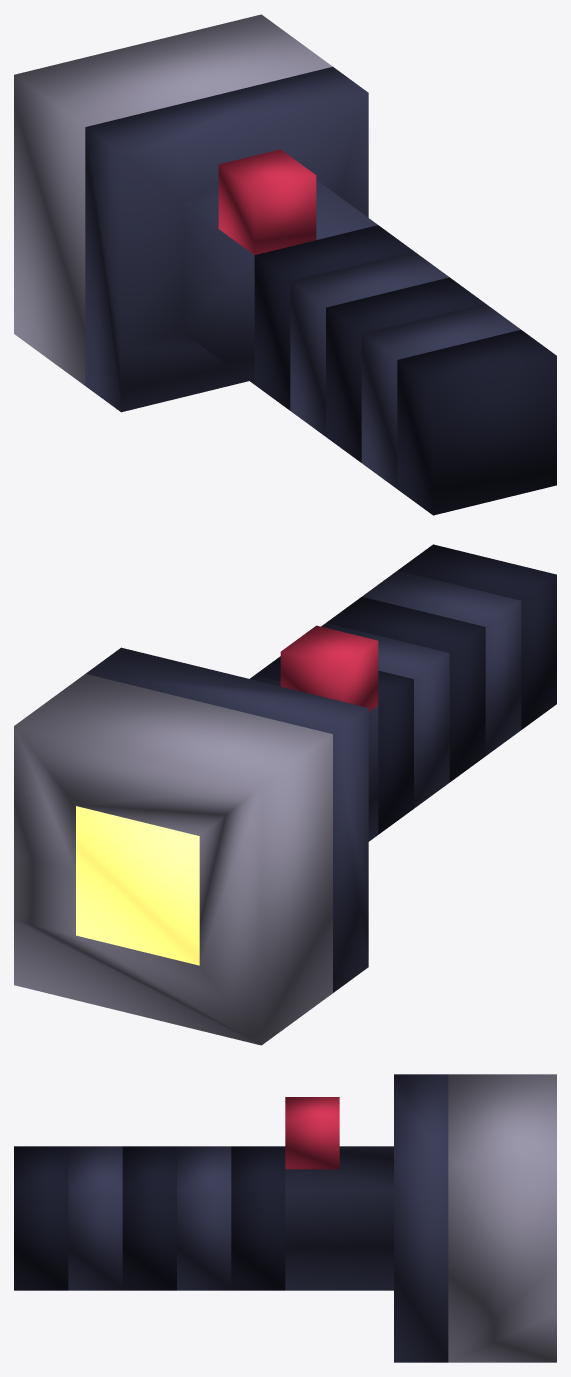
File: flashlight.lod1.glb
3 views of the same model, one above another, from view 1: azimuth 30°, elevation 25°; view 2: azimuth 150°, elevation 25°; view 3: azimuth 270°, elevation 25° (orthographic). The views are drawn at different scales.
Visible parts, largest first — view 1: flashlight.body; view 2: flashlight.body; view 3: flashlight.body.
Boxes of the visible parts, x1,y1,x2,y2 form: flashlight.body: [14, 14, 556, 515]; flashlight.body: [14, 544, 556, 1045]; flashlight.body: [14, 1074, 556, 1362].
Size of the model in its own units: 0.125 by 0.125 by 0.3125.
